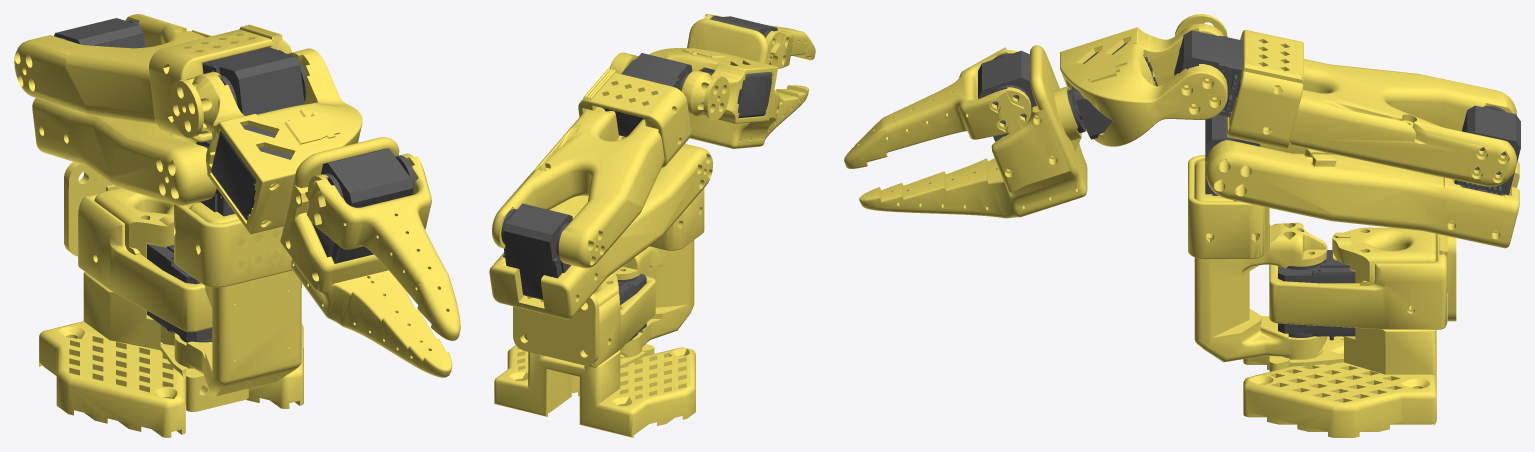
The picture shows the model from 3 angles, left to right: view 1: azimuth 30°, elevation 25°; view 2: azimuth 150°, elevation 25°; view 3: azimuth 270°, elevation 25°; orthographic projection. The views are drawn at different scales.
Visible parts, largest first — view 1: visual__base__0, visual__shoulder__0, visual__lower_arm__0, visual__wrist__0, visual__gripper__0, visual__upper_arm__0, visual__jaw__0, visual__lower_arm__1, visual__gripper__1, visual__wrist__1, visual__upper_arm__1, visual__base__1 (+1 smaller); view 2: visual__base__0, visual__lower_arm__0, visual__upper_arm__0, visual__shoulder__0, visual__gripper__0, visual__wrist__0, visual__upper_arm__1, visual__lower_arm__1, visual__jaw__0, visual__wrist__1, visual__base__1, visual__gripper__1; view 3: visual__base__0, visual__lower_arm__0, visual__upper_arm__0, visual__shoulder__0, visual__gripper__0, visual__wrist__0, visual__jaw__0, visual__lower_arm__1, visual__base__1, visual__upper_arm__1, visual__gripper__1, visual__wrist__1 (+1 smaller).
Boxes of the visible parts, box(x1,y1,x2,y2) form: visual__base__0: box(39, 162, 303, 437); visual__shoulder__0: box(174, 202, 301, 395); visual__lower_arm__0: box(14, 14, 291, 142); visual__wrist__0: box(169, 48, 362, 234); visual__gripper__0: box(280, 137, 452, 377); visual__upper_arm__0: box(32, 98, 216, 205); visual__jaw__0: box(305, 153, 460, 340); visual__lower_arm__1: box(202, 47, 307, 115); visual__gripper__1: box(312, 148, 416, 263); visual__wrist__1: box(211, 125, 292, 220); visual__upper_arm__1: box(54, 18, 146, 48); visual__base__1: box(147, 244, 212, 342); visual__base__0: box(494, 272, 695, 437); visual__lower_arm__0: box(492, 68, 691, 268); visual__upper_arm__0: box(489, 144, 712, 319); visual__shoulder__0: box(615, 188, 704, 358); visual__gripper__0: box(687, 18, 808, 148); visual__wrist__0: box(609, 48, 777, 123); visual__upper_arm__1: box(501, 203, 572, 299); visual__lower_arm__1: box(602, 53, 692, 136); visual__jaw__0: box(703, 14, 815, 68); visual__wrist__1: box(701, 67, 772, 118); visual__base__1: box(617, 274, 646, 342); visual__gripper__1: box(710, 15, 777, 37); visual__base__0: box(1243, 227, 1456, 437); visual__lower_arm__0: box(1226, 30, 1516, 186); visual__upper_arm__0: box(1206, 140, 1519, 248); visual__shoulder__0: box(1188, 155, 1327, 362); visual__gripper__0: box(859, 45, 1087, 218); visual__wrist__0: box(1060, 14, 1227, 146); visual__jaw__0: box(844, 47, 1031, 168); visual__lower_arm__1: box(1174, 30, 1242, 117); visual__base__1: box(1278, 250, 1355, 340); visual__upper_arm__1: box(1454, 105, 1520, 195); visual__gripper__1: box(978, 50, 1036, 169); visual__wrist__1: box(1067, 42, 1157, 139).
Size of what is drawn, in the model's own units: 0.1109 by 0.1701 by 0.3046.
